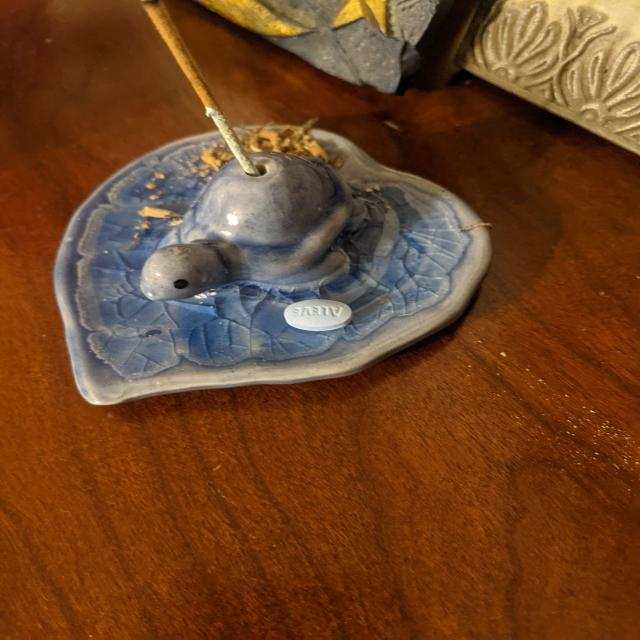non-organic waste: (283, 298, 354, 332)
